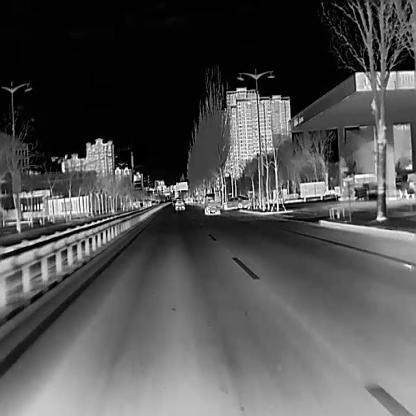car: (204, 189, 221, 214), (222, 195, 248, 210), (173, 197, 184, 211)
